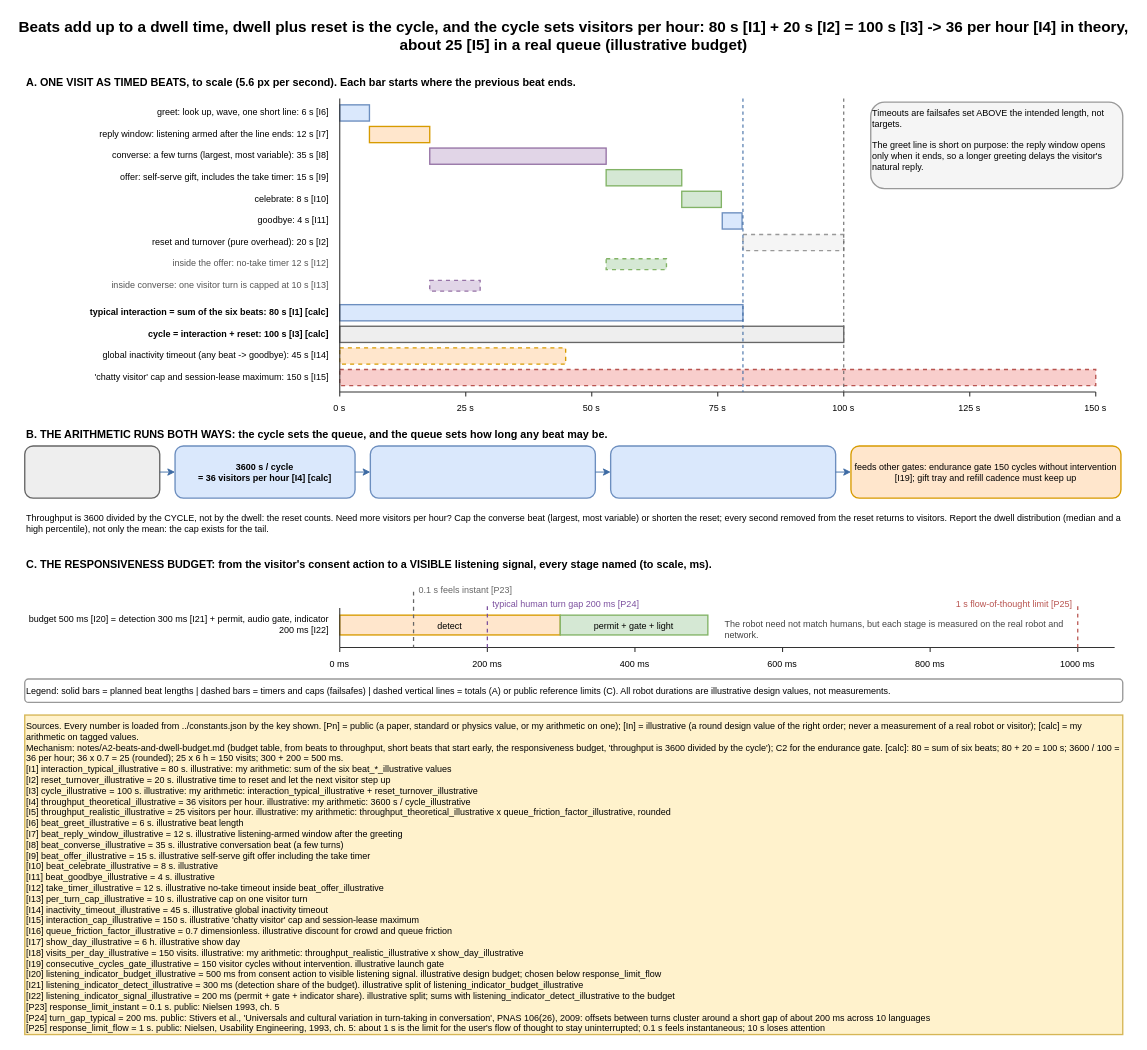
Some shapes in this 1147 by 1050 pixel diagram are drawn without their labels. The shapes that lost their labels are listed below. From the top down, each one's centre as x and y in pixels, then its label:
At pixel 92 471: "cycle 100 s [I3]".
At pixel 482 471: "x queue friction 0.7 [I16] = about 25 per hour [I5] [calc]".
At pixel 723 471: "x show day 6 h [I17] = about 150 visits per day [I18] [calc]".
